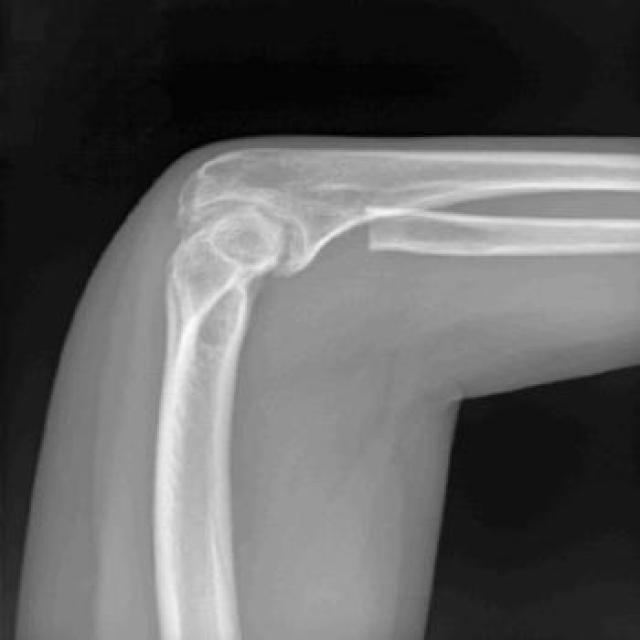Fracture: (279, 191, 424, 283)
